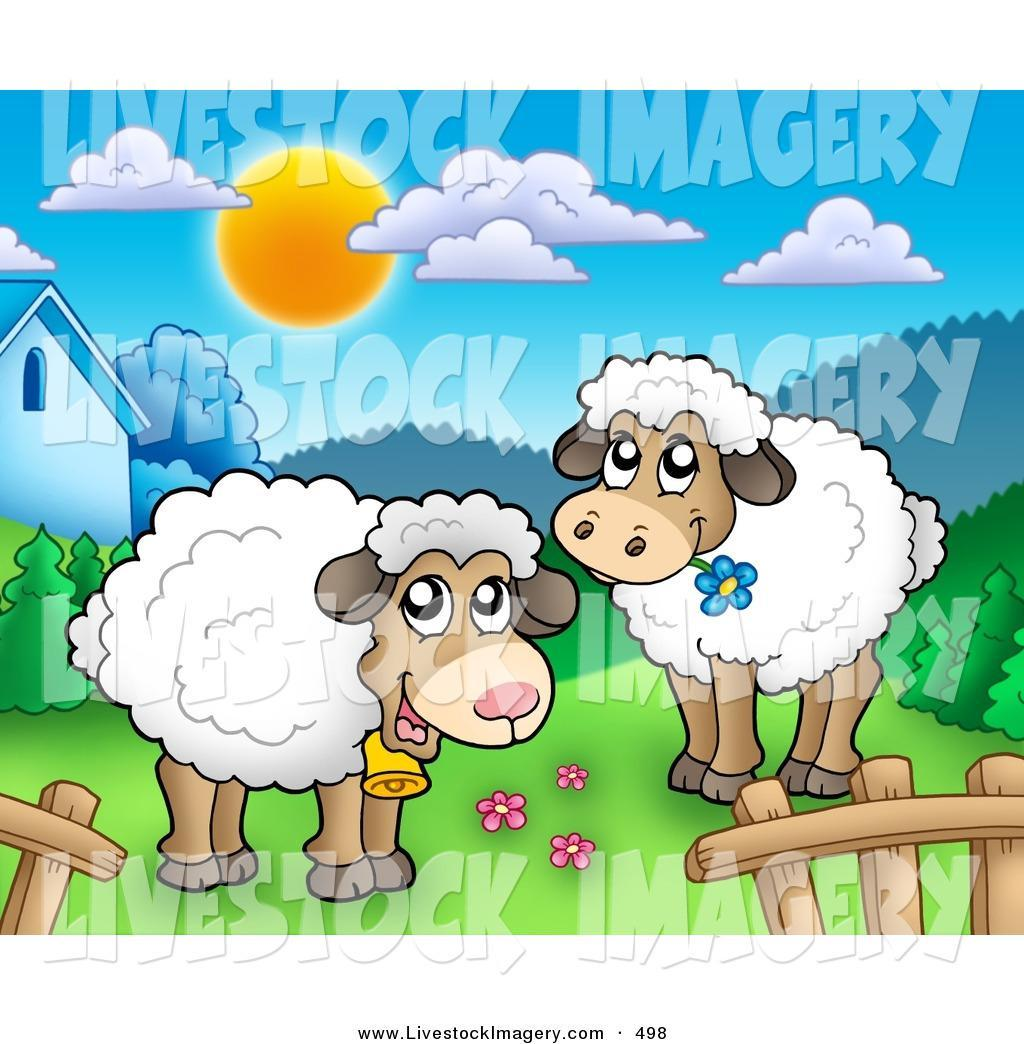sheep: (69, 462, 575, 920), (544, 342, 935, 811)
